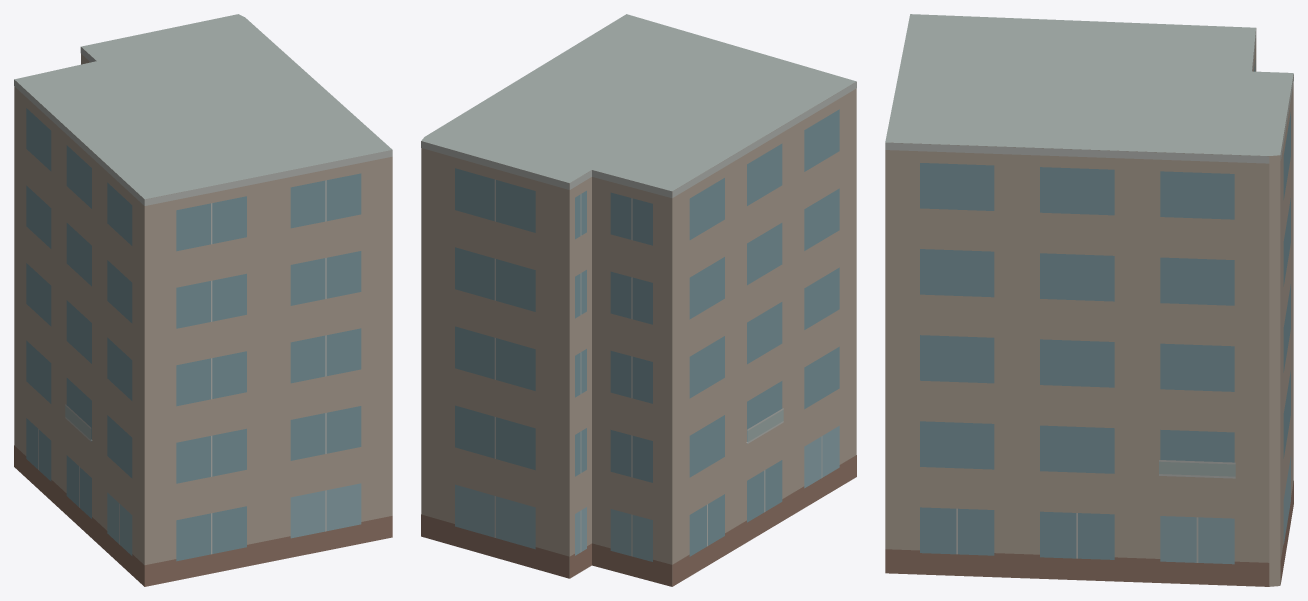
The model's file is survey-upis-32771983.glb.
The picture shows the model from 3 angles, left to right: view 1: azimuth 30°, elevation 25°; view 2: azimuth 150°, elevation 25°; view 3: azimuth 270°, elevation 25°; orthographic projection. The views are drawn at different scales.
Visible parts, largest first — view 1: survey-upis-32771983.tmp; view 2: survey-upis-32771983.tmp; view 3: survey-upis-32771983.tmp.
Part boxes in pixels (x1,y1,x2,y2): survey-upis-32771983.tmp: (14, 14, 392, 586); survey-upis-32771983.tmp: (421, 14, 856, 586); survey-upis-32771983.tmp: (885, 14, 1293, 586).
Size of the model in its own units: 9.91 by 14 by 12.05.
